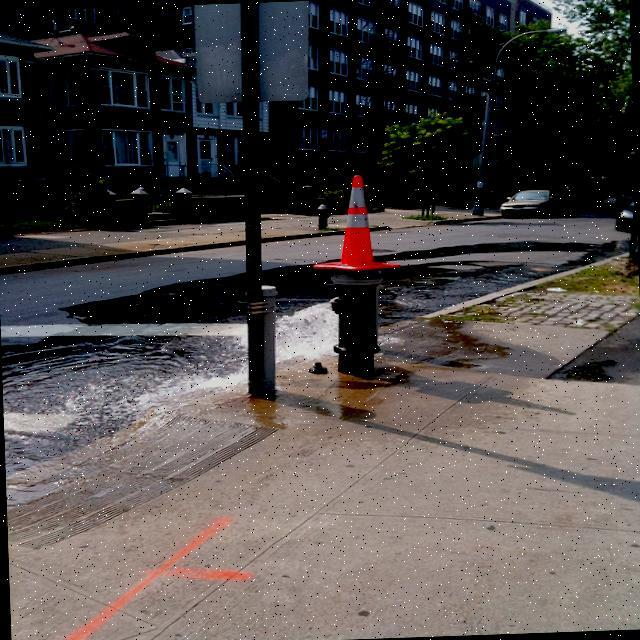fire_hydrant: (326, 266, 386, 374), (315, 203, 329, 228)
